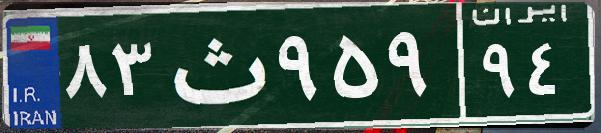3: (110, 28, 158, 105)
4: (525, 38, 570, 115)
5: (330, 28, 385, 110)
8: (57, 26, 110, 107)
9: (385, 28, 445, 110), (273, 28, 330, 110), (475, 38, 525, 113)
ث: (158, 15, 273, 115)
